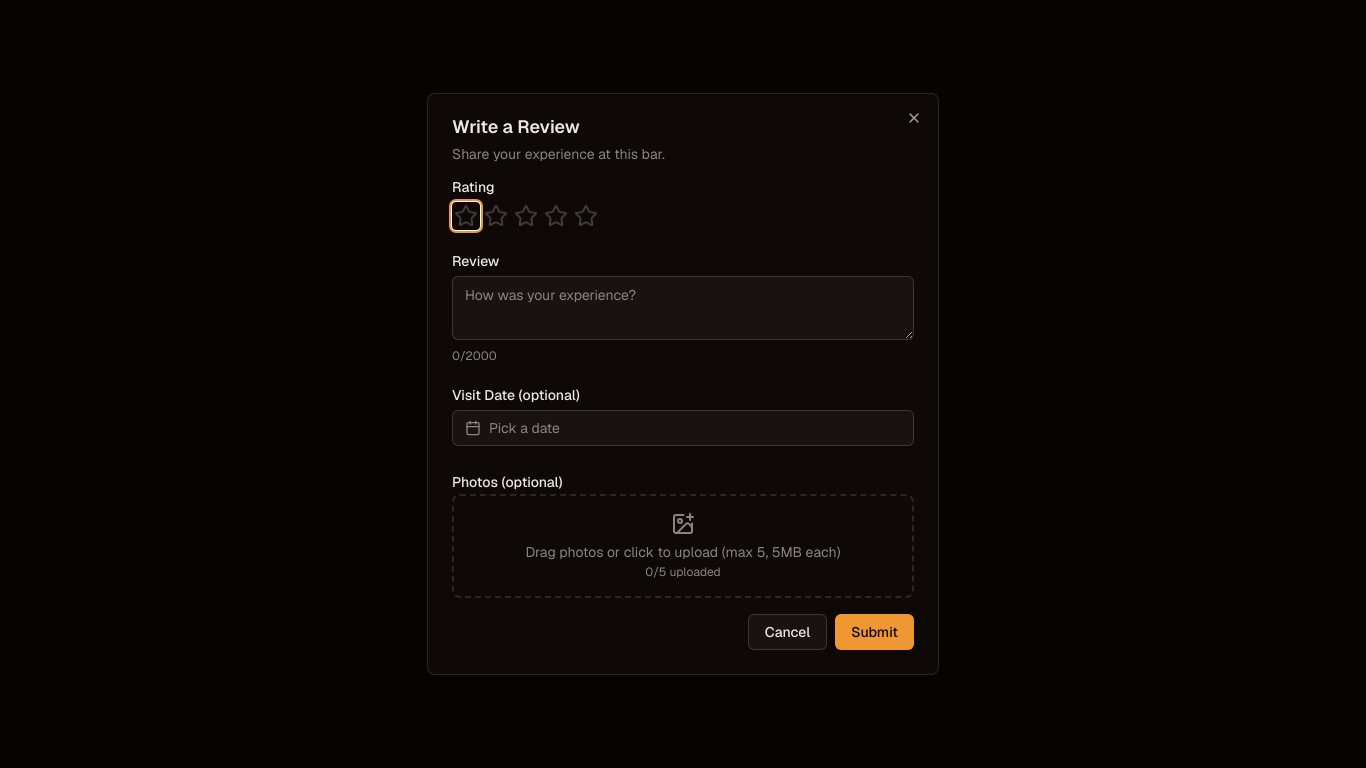
ReviewFormModal › 폼 유효성 검사: 내용 비어있음 › should show content error when content is empty and form is submitted
rating은 선택하되 content는 비워둠
Click the radio button named "3 stars" at (526, 216), box 512,202 -> 540,230
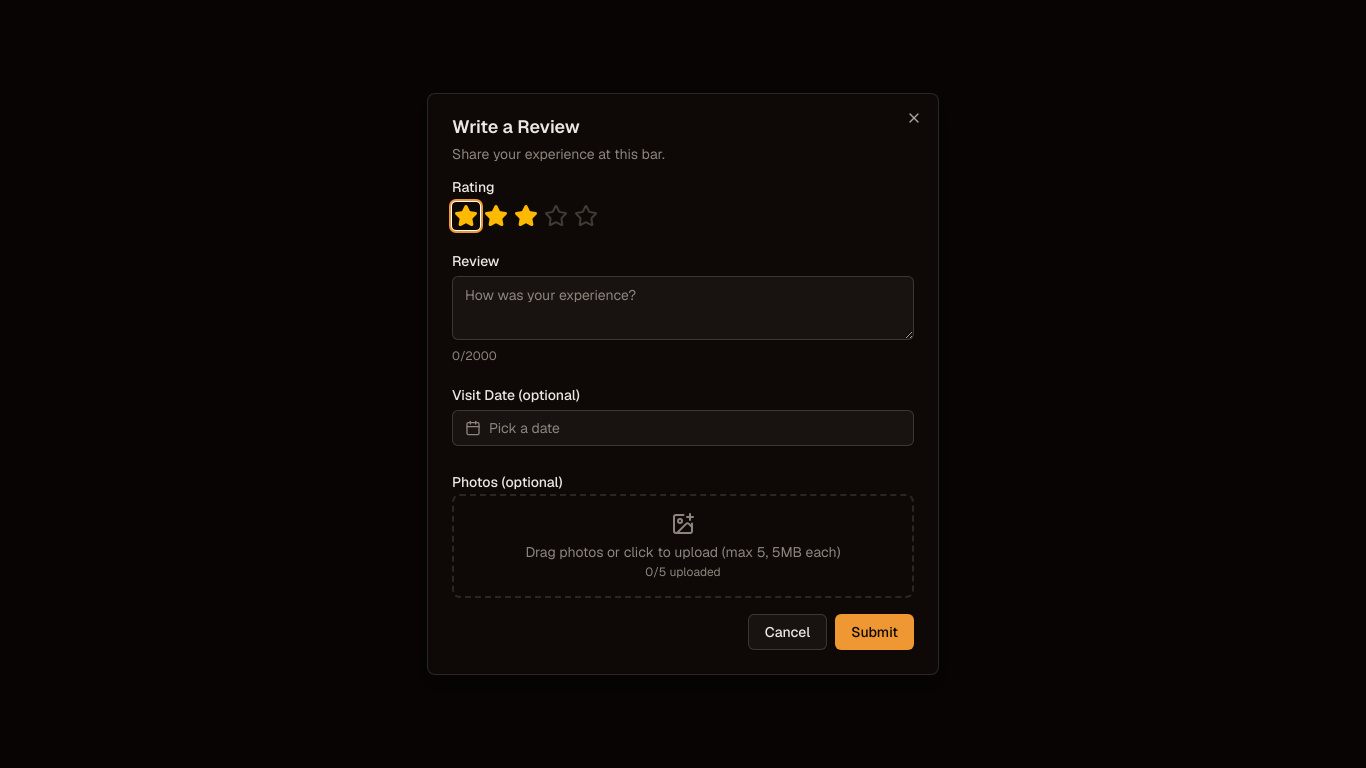
Click the button "Submit" at (875, 632), box 835,614 -> 914,650
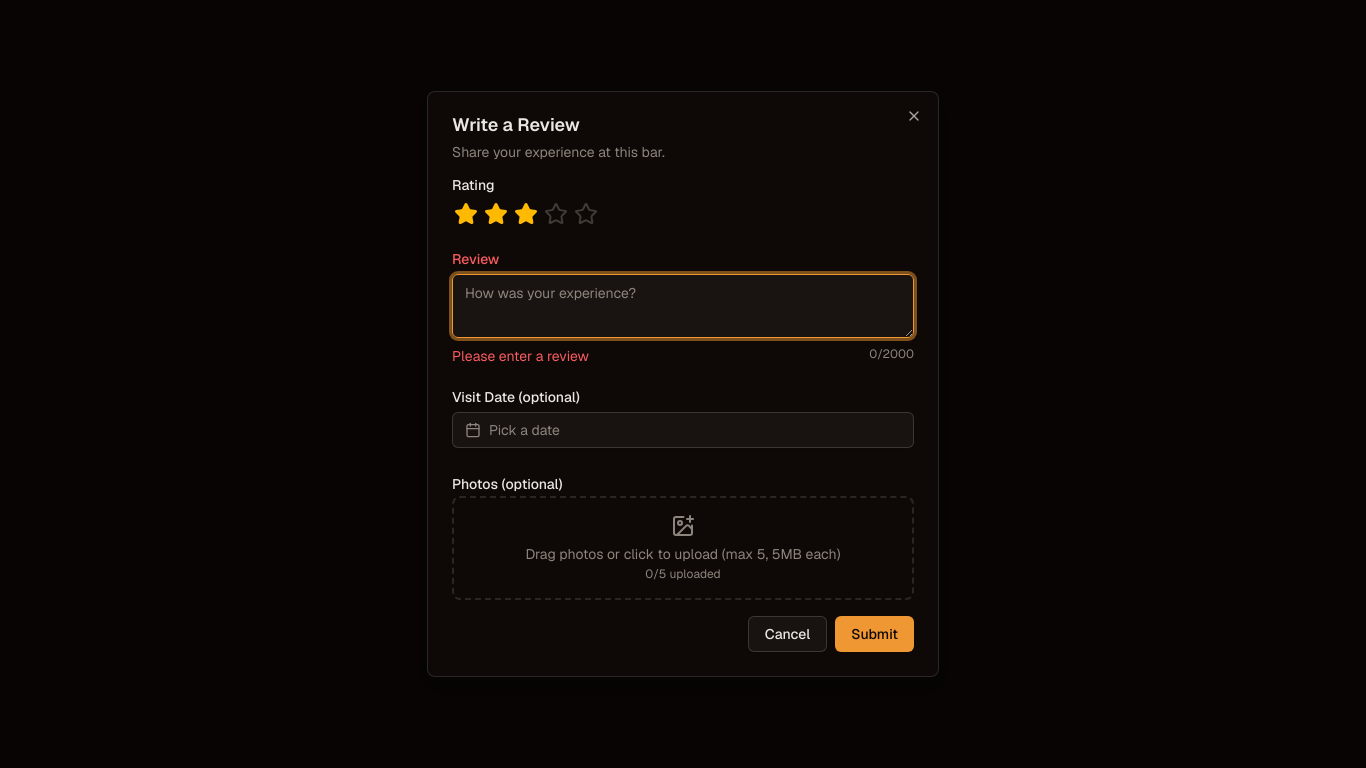
Check: the text "Please enter a review" is shown, box 452,346 -> 589,366
